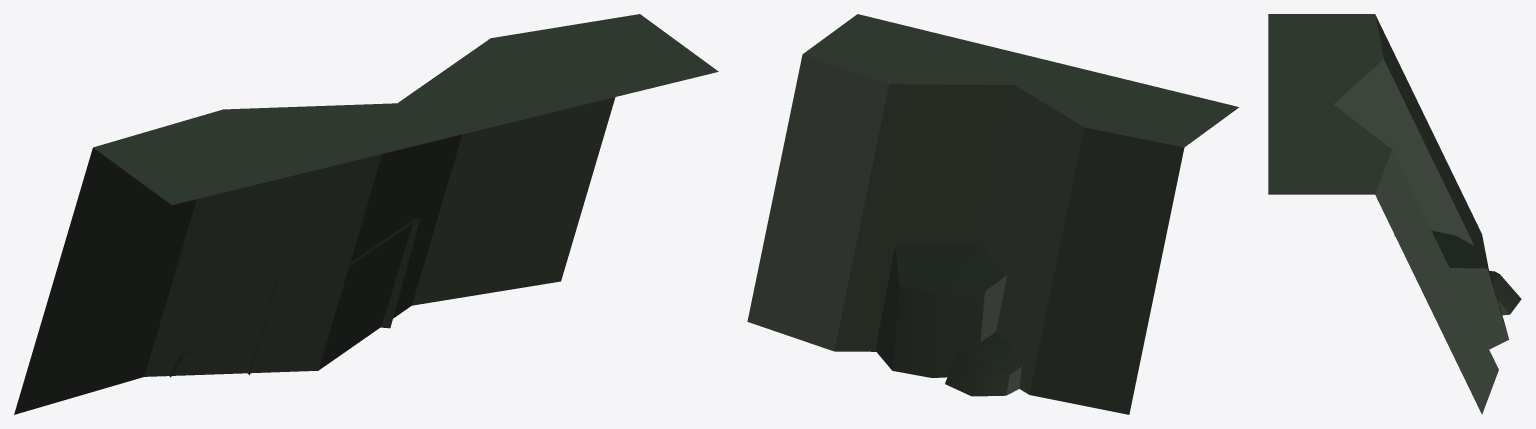
File: SF_Env_MudEdge_Straight_02.glb
3 views of the same model, side by side, from view 1: azimuth 30°, elevation 25°; view 2: azimuth 150°, elevation 25°; view 3: azimuth 270°, elevation 25° (orthographic). The views are drawn at different scales.
Parts seen in each view (by area): view 1: SF_Env_MudEdge_Straight_02; view 2: SF_Env_MudEdge_Straight_02; view 3: SF_Env_MudEdge_Straight_02.
Boxes of the visible parts, x1,y1,x2,y2 form: SF_Env_MudEdge_Straight_02: [14, 14, 718, 414]; SF_Env_MudEdge_Straight_02: [747, 14, 1238, 414]; SF_Env_MudEdge_Straight_02: [1268, 14, 1521, 414].
Size of the model in its own units: 0.1 by 0.0568 by 0.0593.
Materials: 1 (1 with a texture image).
